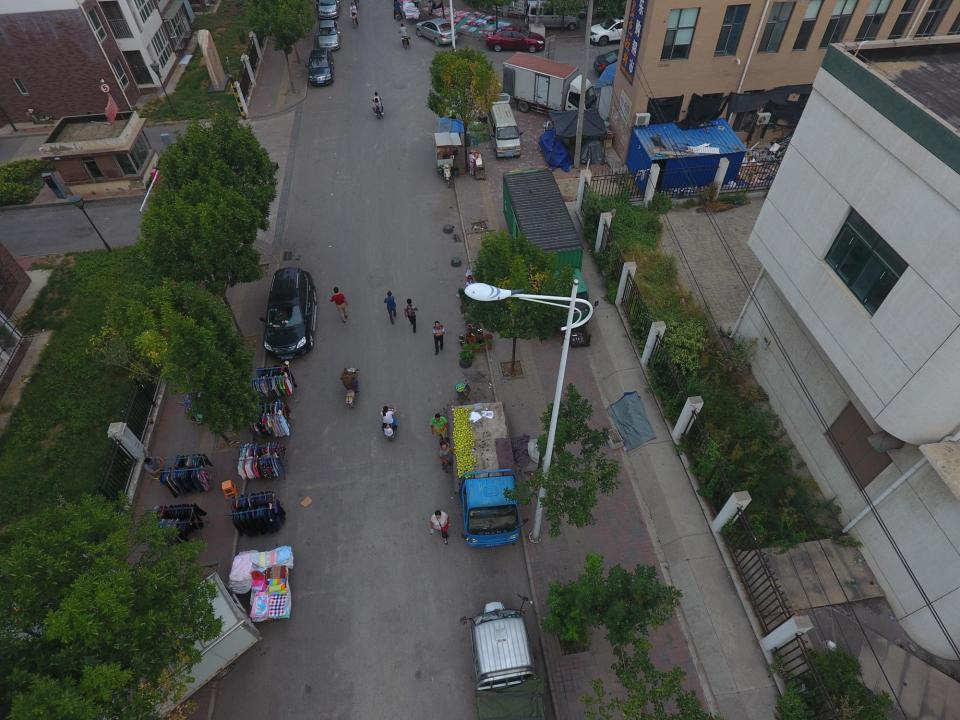car: (260, 267, 316, 362), (487, 26, 544, 54), (587, 18, 641, 47), (593, 49, 647, 77), (417, 18, 459, 47), (306, 49, 333, 88), (316, 19, 342, 54), (315, 0, 341, 20)
truck: (86, 573, 262, 720), (502, 170, 592, 331), (459, 592, 546, 720), (448, 404, 524, 547), (502, 49, 597, 122), (502, 51, 596, 123)
van: (488, 100, 522, 160), (525, 2, 579, 31)
